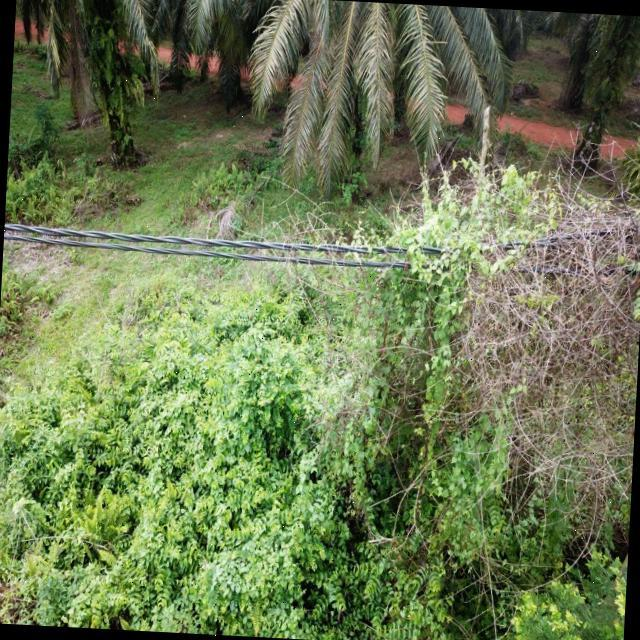critical vegetation: (141, 129, 640, 384)
